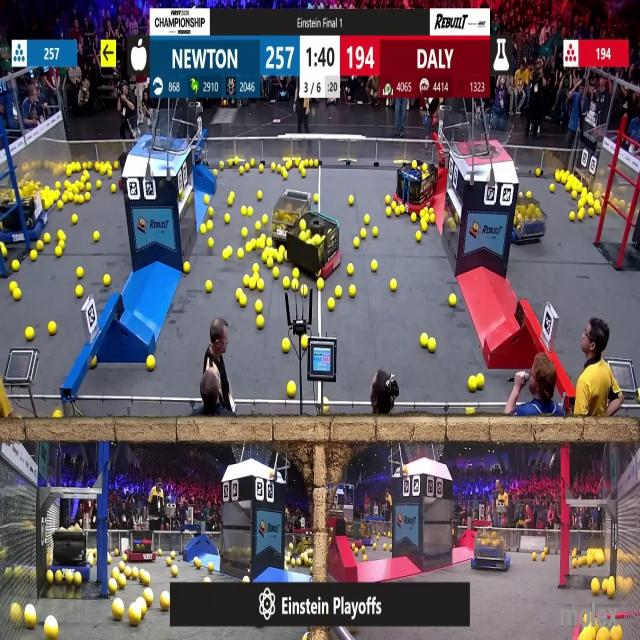ball_ground: (44, 617, 58, 639), (26, 608, 38, 630), (112, 599, 124, 620), (162, 593, 171, 611), (141, 570, 150, 585), (26, 327, 36, 340), (287, 381, 295, 397), (592, 580, 600, 596), (144, 590, 153, 604), (147, 355, 155, 370), (108, 581, 117, 594), (282, 339, 290, 353), (48, 320, 56, 334), (477, 376, 485, 390), (256, 316, 264, 329), (45, 570, 53, 583), (67, 570, 75, 583), (428, 339, 435, 353), (607, 585, 614, 599), (422, 335, 429, 349), (74, 572, 82, 584), (450, 293, 457, 306), (36, 241, 44, 252), (255, 302, 262, 314), (336, 285, 343, 297), (349, 285, 356, 297), (389, 280, 396, 292), (76, 285, 83, 297), (327, 299, 334, 311), (240, 294, 247, 306), (56, 570, 63, 582), (13, 288, 20, 300), (51, 324, 58, 336), (30, 250, 38, 260), (11, 262, 19, 272), (291, 269, 299, 279), (58, 232, 66, 242), (252, 264, 260, 274), (317, 279, 324, 290), (302, 285, 309, 296), (348, 266, 355, 277), (76, 268, 83, 279), (183, 263, 189, 275), (257, 280, 263, 292), (371, 261, 377, 273), (104, 274, 110, 286), (292, 279, 298, 291), (238, 248, 244, 260), (94, 233, 101, 243), (172, 566, 179, 576), (9, 281, 16, 291), (371, 228, 378, 238), (348, 196, 355, 206), (78, 194, 85, 204), (111, 568, 118, 578), (207, 219, 213, 230), (274, 268, 280, 279), (244, 276, 250, 287), (250, 279, 256, 290), (206, 281, 212, 292), (237, 288, 243, 299), (86, 181, 94, 189), (102, 276, 109, 285), (421, 222, 428, 231), (597, 556, 604, 565), (466, 408, 473, 417), (285, 162, 292, 171), (550, 183, 557, 192), (72, 214, 78, 224), (208, 238, 214, 248), (386, 207, 392, 217), (57, 247, 63, 257), (44, 234, 50, 244), (284, 278, 290, 288), (314, 192, 320, 202), (62, 192, 68, 202), (1, 246, 7, 256), (578, 210, 584, 220), (556, 172, 562, 182), (55, 412, 63, 419), (86, 192, 93, 200), (354, 238, 359, 249), (360, 229, 365, 240), (93, 357, 98, 368), (96, 179, 102, 188), (244, 575, 250, 584), (247, 207, 253, 216), (569, 211, 575, 220), (263, 215, 269, 224), (429, 214, 435, 223), (577, 199, 583, 208), (47, 591, 53, 600), (417, 233, 422, 243), (36, 238, 41, 248), (255, 220, 260, 230), (413, 212, 418, 222), (269, 238, 274, 248), (364, 214, 369, 224), (269, 260, 274, 270), (596, 206, 601, 216), (58, 202, 64, 210), (110, 184, 116, 192), (571, 190, 577, 198), (589, 208, 595, 216), (80, 173, 86, 181), (242, 229, 248, 237), (204, 575, 210, 583), (257, 190, 262, 199), (242, 207, 247, 216), (398, 206, 403, 215), (395, 208, 400, 217), (205, 196, 210, 205), (68, 166, 72, 177), (372, 227, 378, 234), (202, 223, 206, 233), (532, 553, 537, 561), (472, 409, 477, 417), (78, 182, 83, 190), (572, 558, 576, 568), (65, 180, 70, 188), (209, 563, 214, 571), (578, 558, 582, 568), (296, 558, 300, 568), (589, 557, 593, 567), (589, 198, 594, 206), (224, 214, 228, 223), (324, 407, 328, 416), (167, 559, 173, 565), (56, 182, 62, 188), (114, 162, 118, 171), (390, 202, 396, 208), (527, 191, 532, 198), (219, 163, 224, 170), (56, 190, 61, 197), (209, 208, 213, 216), (536, 169, 540, 177), (259, 165, 263, 173), (314, 161, 318, 169), (423, 224, 427, 232), (240, 166, 244, 174), (361, 545, 365, 553), (328, 408, 332, 416), (86, 192, 89, 202), (172, 552, 176, 559), (108, 557, 112, 564), (386, 195, 390, 202), (363, 556, 367, 562), (200, 561, 202, 568)
goal: (460, 117, 516, 158), (130, 118, 189, 152)
robot_blue: (55, 527, 90, 573), (512, 196, 546, 243), (475, 529, 509, 572)
robot_red: (290, 215, 341, 278), (397, 162, 437, 210), (126, 530, 156, 562)
